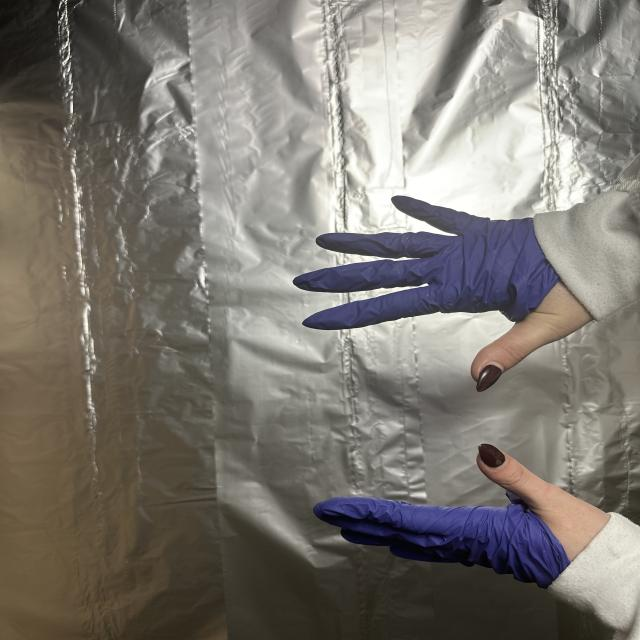glove_partial: (289, 188, 599, 388), (318, 440, 608, 589)
